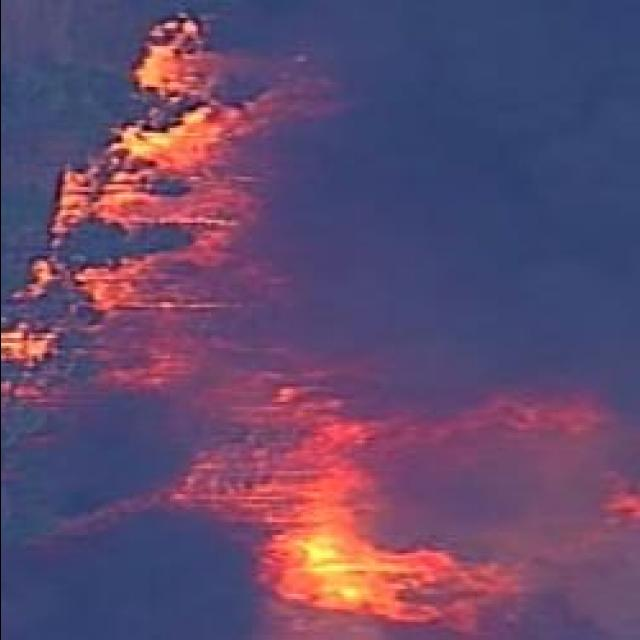fire: (289, 535, 368, 609), (309, 431, 356, 523), (382, 552, 452, 609), (173, 116, 209, 162), (144, 54, 188, 80), (106, 192, 146, 218), (131, 128, 169, 154)
smoke: (359, 170, 532, 333), (396, 24, 528, 148), (67, 560, 202, 624)
